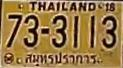1: (73, 15, 78, 47), (89, 16, 94, 48)
3: (23, 14, 38, 46), (101, 15, 116, 47), (51, 15, 66, 47)
7: (6, 14, 22, 47)
SPK: (25, 51, 97, 64)
